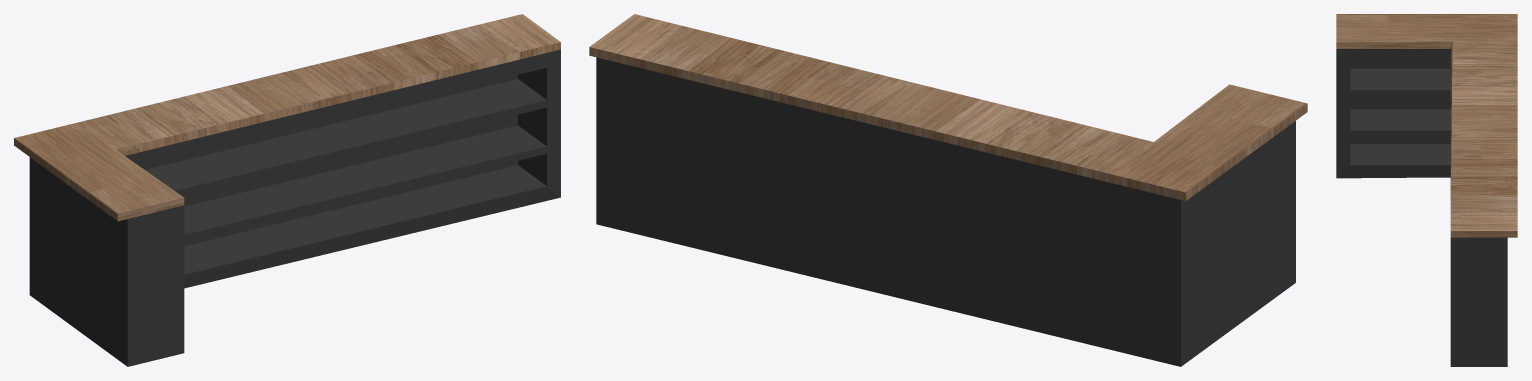
The model's file is Reception.fbx.
3 views of the same model, side by side, from view 1: azimuth 30°, elevation 25°; view 2: azimuth 150°, elevation 25°; view 3: azimuth 270°, elevation 25° (orthographic). The views are drawn at different scales.
Visible parts, largest first — view 1: Cube; view 2: Cube; view 3: Cube.
Boxes of the visible parts, x1=… form: Cube: x1=14, y1=14, x2=560, y2=366; Cube: x1=589, y1=14, x2=1307, y2=366; Cube: x1=1336, y1=14, x2=1517, y2=366.
Size of the model in its own units: 719 by 210 by 254.
